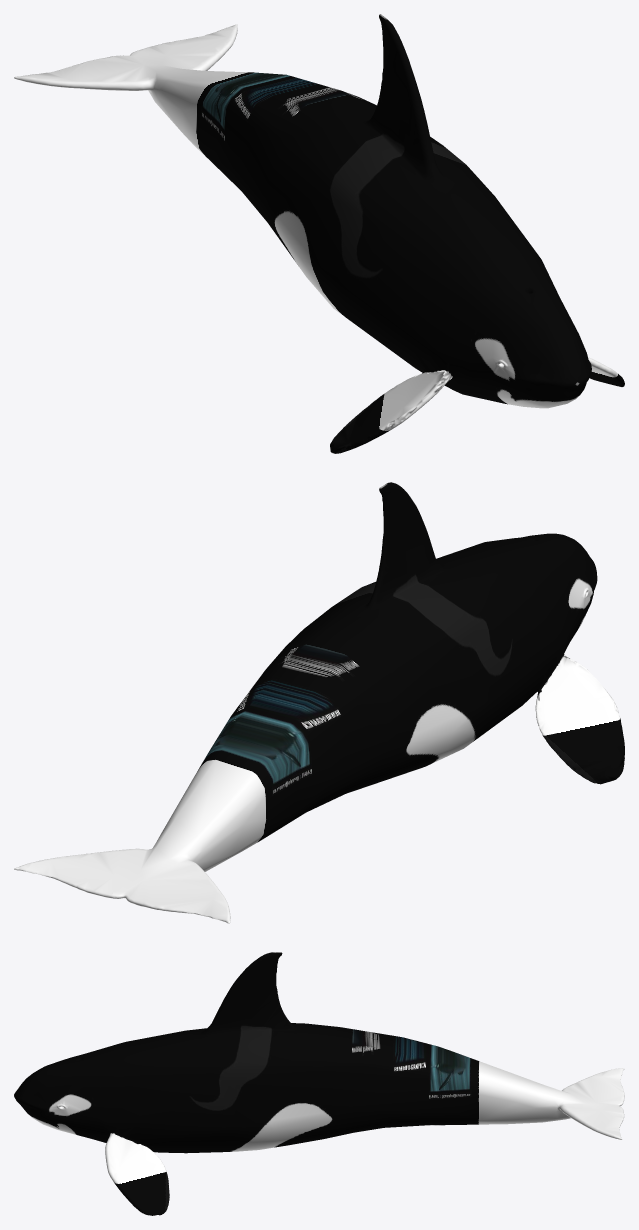
Rendered from orca.fbx.
3 views of the same model, one above another, from view 1: azimuth 30°, elevation 25°; view 2: azimuth 150°, elevation 25°; view 3: azimuth 270°, elevation 25° (orthographic). The views are drawn at different scales.
Visible parts, largest first — view 1: polySurface1; view 2: polySurface1; view 3: polySurface1.
Part boxes in pixels (bbox=[...]): polySurface1: bbox=[14, 14, 624, 453]; polySurface1: bbox=[14, 482, 624, 923]; polySurface1: bbox=[14, 952, 624, 1215].
Bounding box in the file's own units: 11.02 × 12.33 × 31.01.
2 materials, 2 textured.
